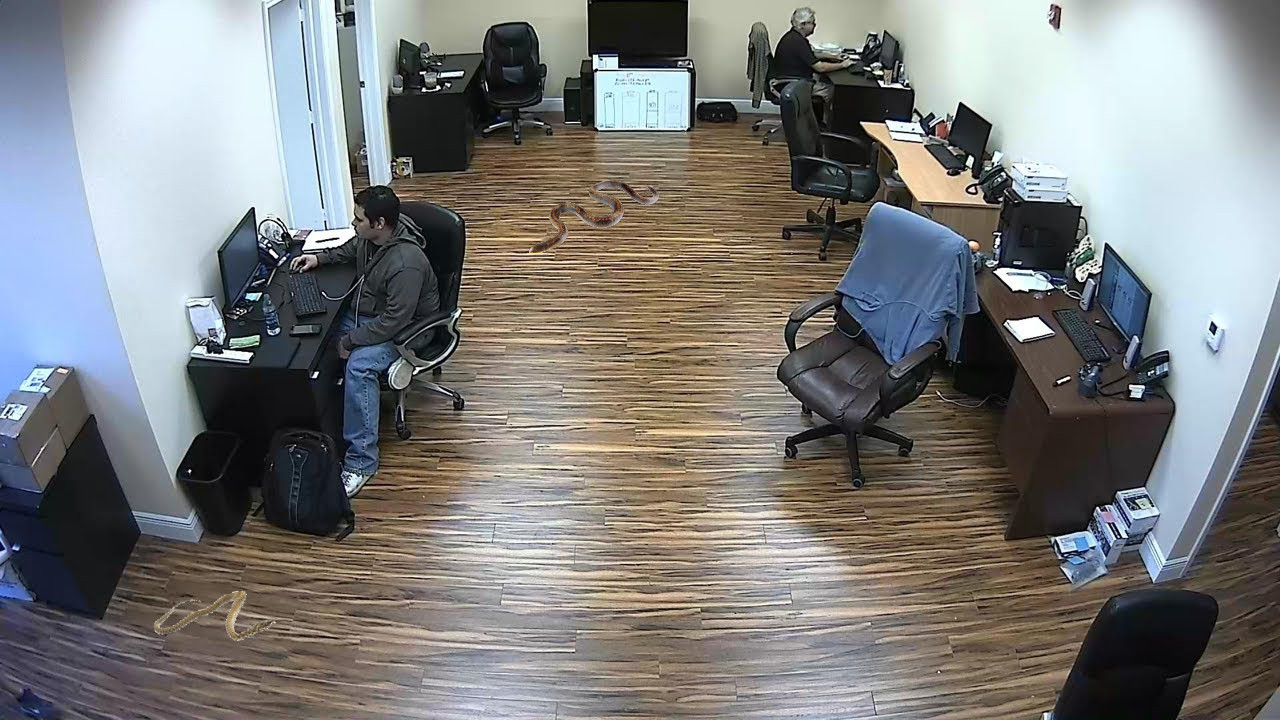snake: (527, 175, 661, 257), (152, 587, 279, 644)
